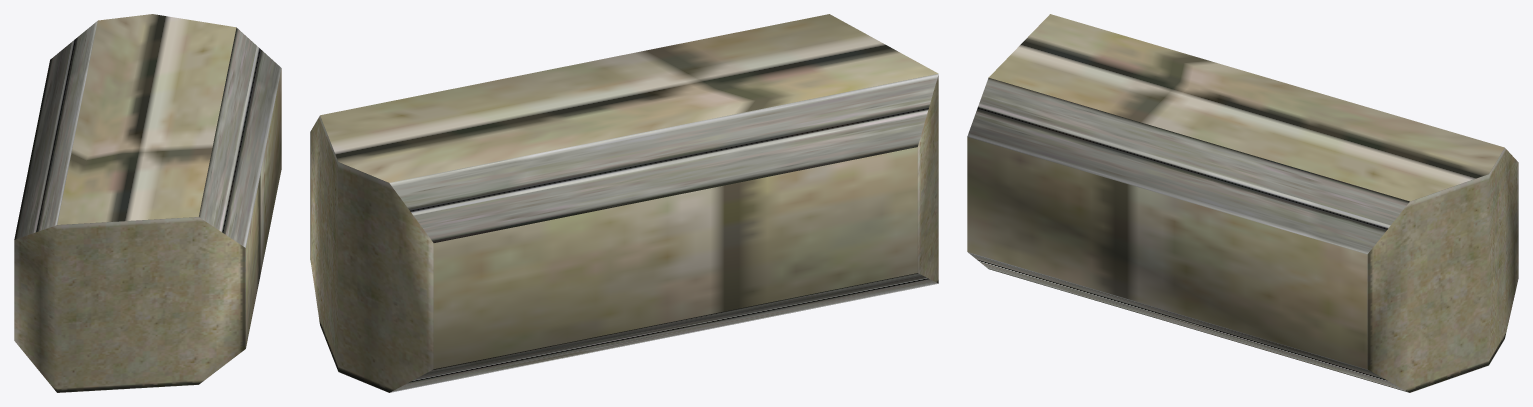
Rendered from DWARF_PALACE_MAINHALL_DEBREE12.fbx.
The picture shows the model from 3 angles, left to right: view 1: azimuth 30°, elevation 25°; view 2: azimuth 150°, elevation 25°; view 3: azimuth 270°, elevation 25°; orthographic projection. The views are drawn at different scales.
Visible parts, largest first — view 1: DWARF_PALACE_MAINHALL_DEBREE12; view 2: DWARF_PALACE_MAINHALL_DEBREE12; view 3: DWARF_PALACE_MAINHALL_DEBREE12.
Boxes of the visible parts, box(x1,y1,x2,y2) form: DWARF_PALACE_MAINHALL_DEBREE12: box(14, 14, 281, 392); DWARF_PALACE_MAINHALL_DEBREE12: box(310, 14, 938, 392); DWARF_PALACE_MAINHALL_DEBREE12: box(967, 14, 1518, 392).
Size of the model in its own units: 46936 by 20000 by 52218.
Materials: 2 (2 with a texture image).
